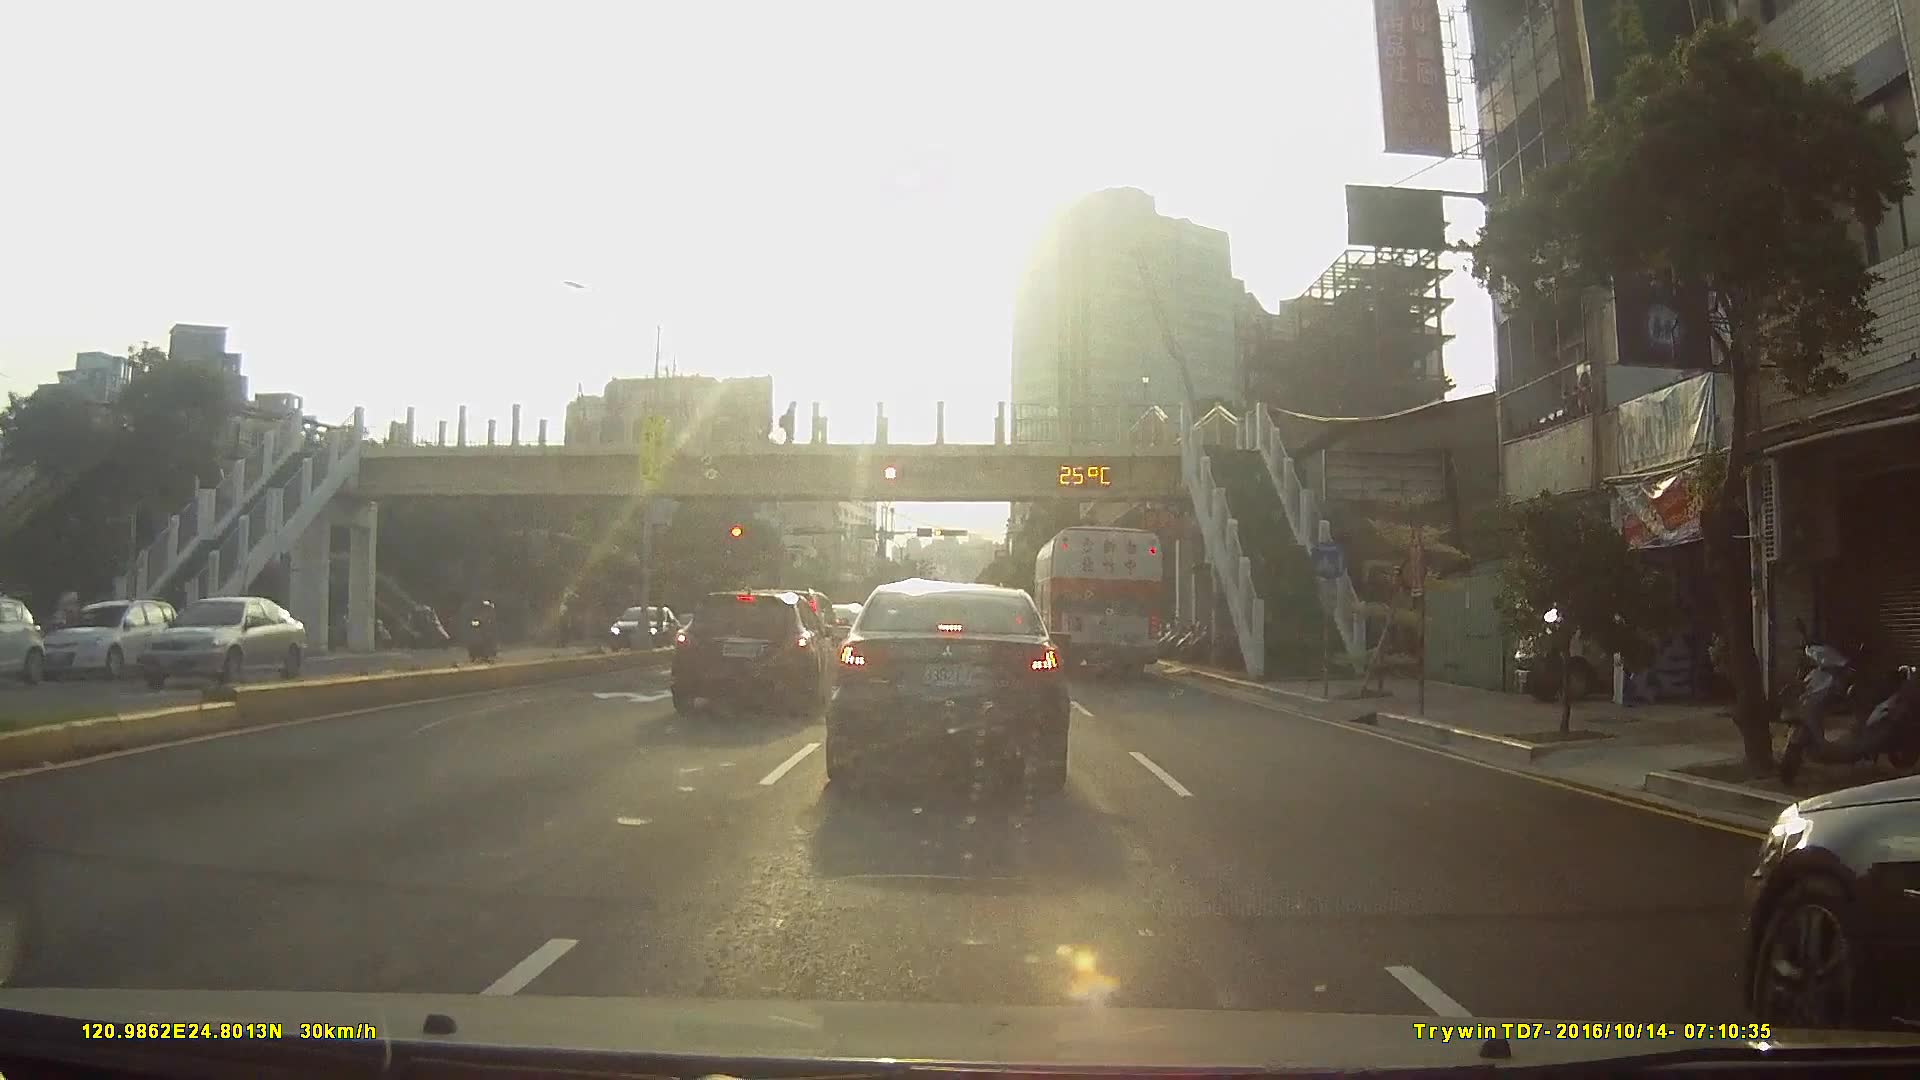pedestrian: (779, 402, 799, 448)
rider: (464, 597, 500, 664)
vehicle: (1714, 765, 1920, 1050), (821, 580, 1072, 791), (663, 585, 840, 719), (1032, 523, 1164, 679), (112, 595, 294, 691), (35, 598, 177, 682), (169, 599, 275, 670), (0, 596, 42, 687), (601, 604, 677, 653)
